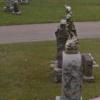Statue: (44, 2, 82, 68)
